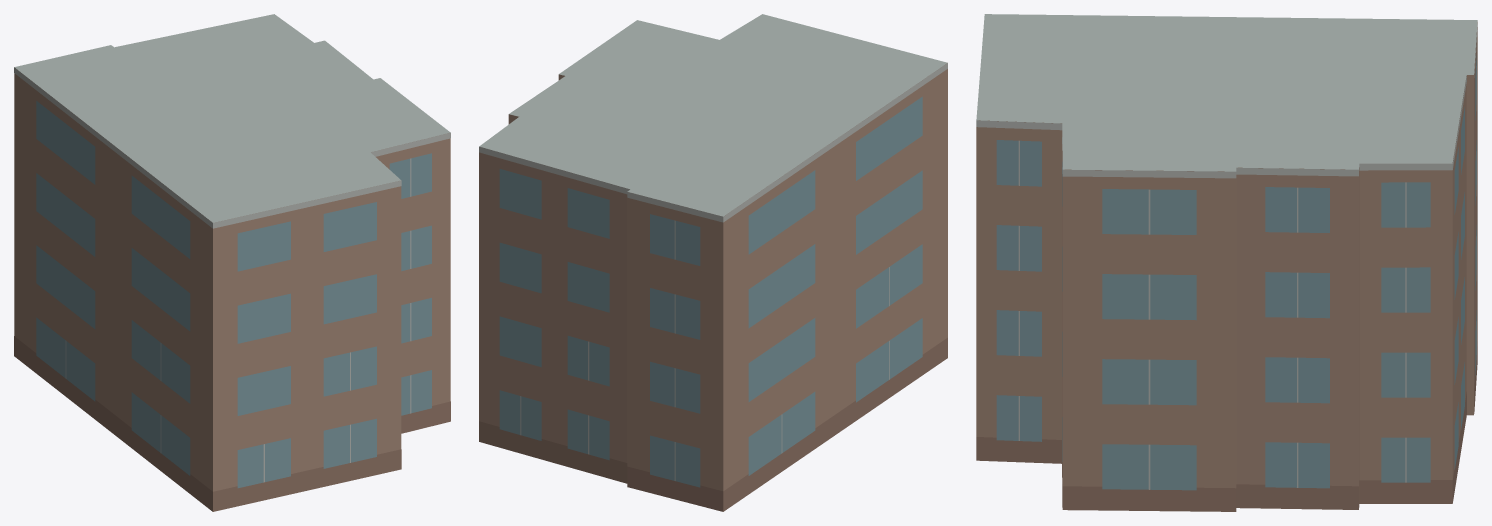
Rendered from survey-upis-32561754.glb.
3 renders of one model, left to right at view 1: azimuth 30°, elevation 25°; view 2: azimuth 150°, elevation 25°; view 3: azimuth 270°, elevation 25°, orthographic. The views are drawn at different scales.
Visible parts, largest first — view 1: survey-upis-32561754.tmp; view 2: survey-upis-32561754.tmp; view 3: survey-upis-32561754.tmp.
Part boxes in pixels (<box>): survey-upis-32561754.tmp: <box>14,14,450,511</box>; survey-upis-32561754.tmp: <box>479,14,947,511</box>; survey-upis-32561754.tmp: <box>976,14,1477,511</box>.
Size of the model in its own units: 12.12 by 12.2 by 16.3.
